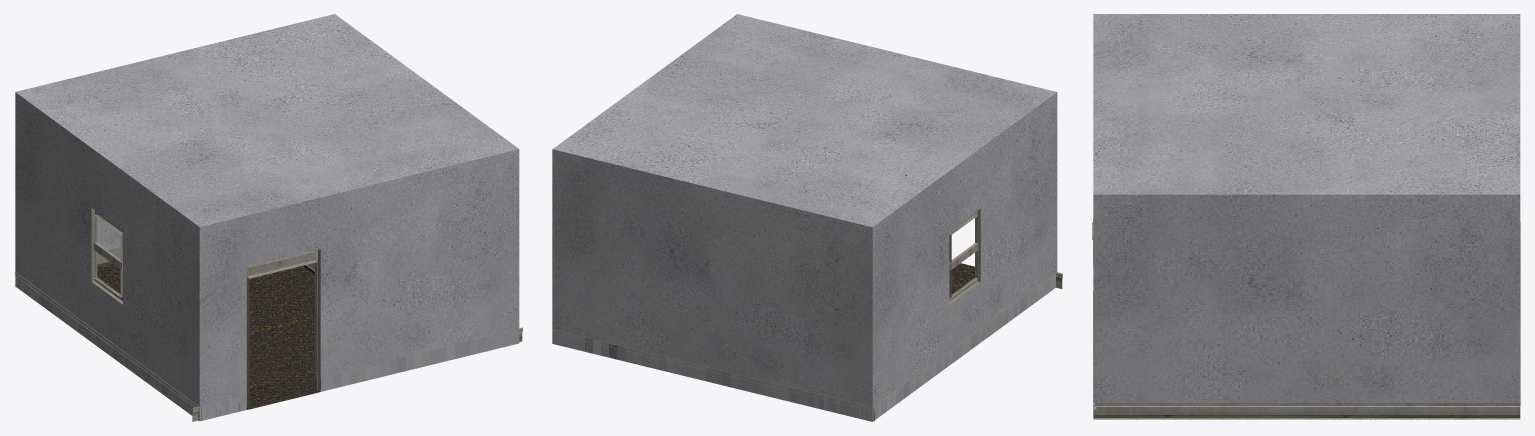
File: level.glb
The picture shows the model from 3 angles, left to right: view 1: azimuth 30°, elevation 25°; view 2: azimuth 150°, elevation 25°; view 3: azimuth 270°, elevation 25°; orthographic projection. The views are drawn at different scales.
Parts seen in each view (by area): view 1: room-col, Cube.002; view 2: room-col, Cube.002; view 3: room-col, Cube.002.
Part boxes in pixels (box(x1,y1,x2,y2)): room-col: box(14, 92, 523, 421); Cube.002: box(15, 14, 518, 226); room-col: box(552, 92, 1062, 421); Cube.002: box(553, 14, 1056, 227); room-col: box(1092, 194, 1520, 419); Cube.002: box(1093, 14, 1520, 194).
Bounding box in the file's own units: 12.89 × 7.3 × 12.52.
Materials: 6 (5 with a texture image).
